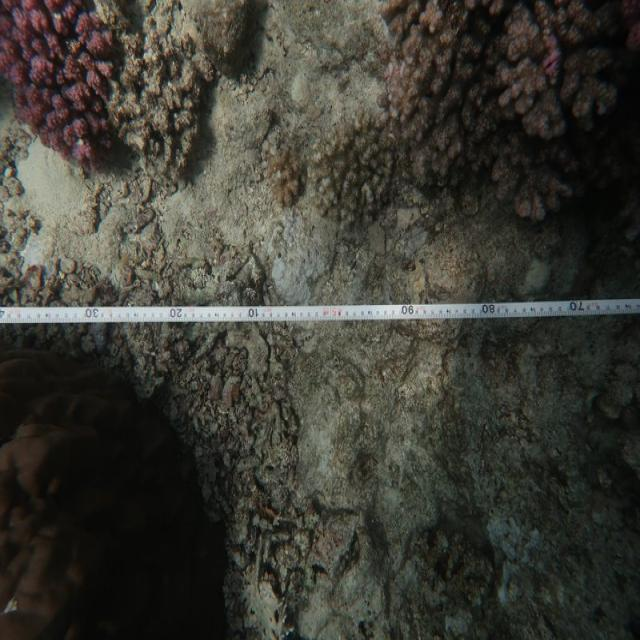Healthy Coral: (0, 3, 117, 178)
